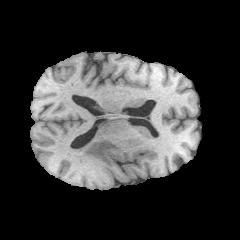glioma: (79, 139, 119, 168)
